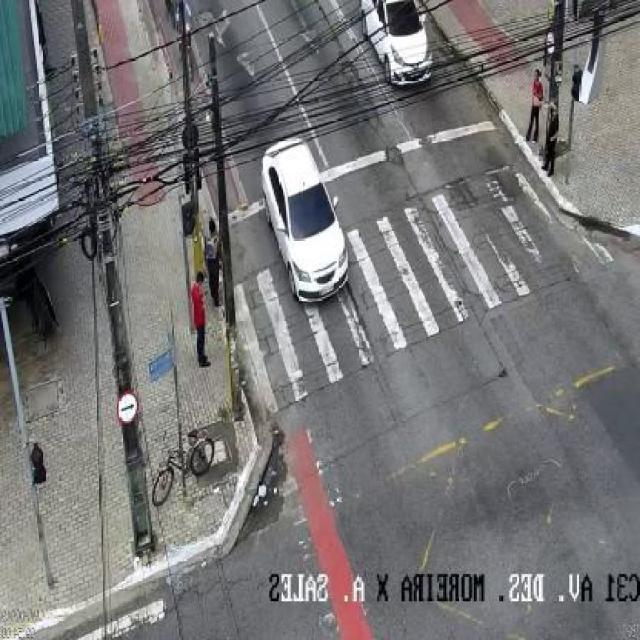Car: (262, 136, 350, 308), (361, 0, 436, 83)
Cycle: (150, 426, 216, 509)
